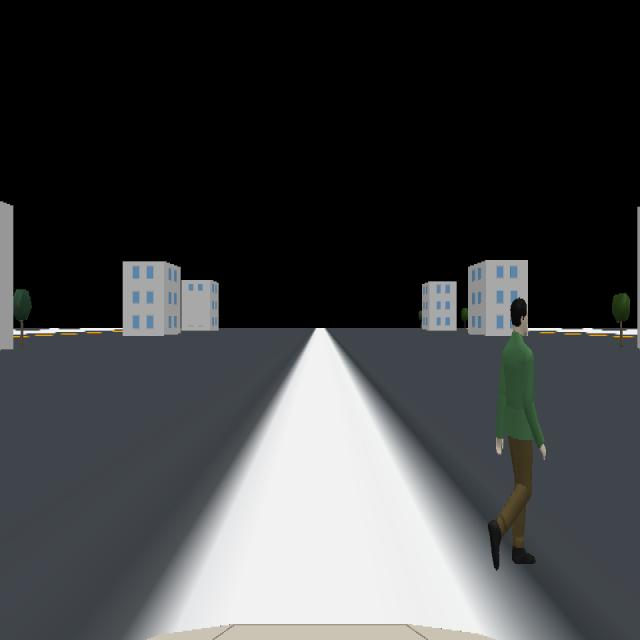human: (487, 296, 547, 571)
